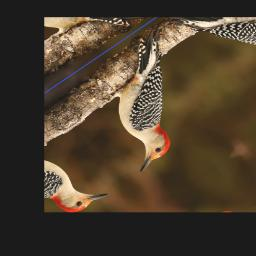Woodpecker: (64, 22, 235, 173)
